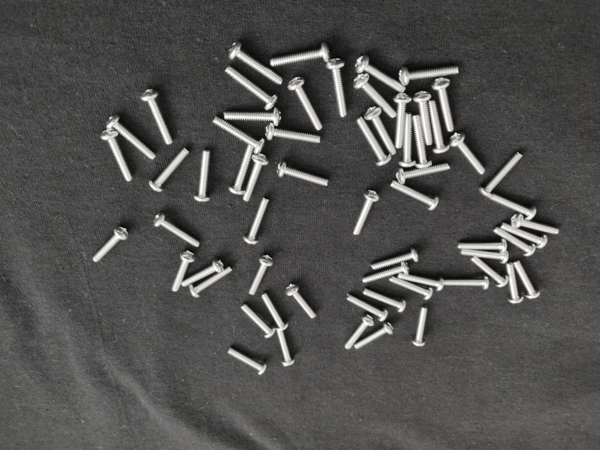longscrew: (228, 41, 286, 86), (224, 66, 279, 112), (105, 114, 157, 161), (478, 151, 525, 199), (139, 89, 178, 146), (210, 116, 266, 155), (353, 73, 398, 120), (287, 76, 324, 132), (354, 55, 408, 93), (149, 147, 191, 193), (356, 115, 393, 167), (99, 128, 133, 184), (152, 212, 200, 249), (364, 105, 398, 157), (390, 179, 440, 212), (270, 41, 331, 68), (449, 132, 487, 175), (431, 78, 459, 133), (276, 160, 330, 188), (189, 265, 233, 299), (399, 63, 461, 87), (241, 152, 270, 203), (488, 192, 538, 221), (491, 227, 537, 258), (228, 144, 255, 196), (325, 58, 348, 119), (395, 161, 451, 186), (351, 189, 380, 237), (242, 197, 270, 246), (499, 223, 549, 250), (470, 256, 510, 289), (240, 304, 276, 340), (181, 258, 224, 288), (92, 227, 127, 263), (223, 107, 283, 128), (265, 122, 322, 144), (392, 92, 413, 151), (371, 247, 420, 272), (412, 91, 433, 149), (346, 295, 389, 323), (260, 292, 290, 332), (227, 347, 268, 376), (354, 322, 395, 351), (286, 284, 319, 320), (429, 101, 451, 155), (344, 314, 376, 351), (362, 261, 410, 285), (362, 289, 408, 314), (248, 254, 274, 297), (513, 261, 541, 300), (389, 277, 434, 301), (511, 213, 560, 235), (171, 251, 196, 294), (398, 113, 417, 169), (413, 114, 432, 170), (193, 150, 213, 203), (398, 272, 445, 292), (456, 238, 508, 255), (275, 327, 296, 369), (505, 262, 524, 305), (442, 274, 490, 291), (460, 249, 510, 265), (412, 305, 430, 348)
